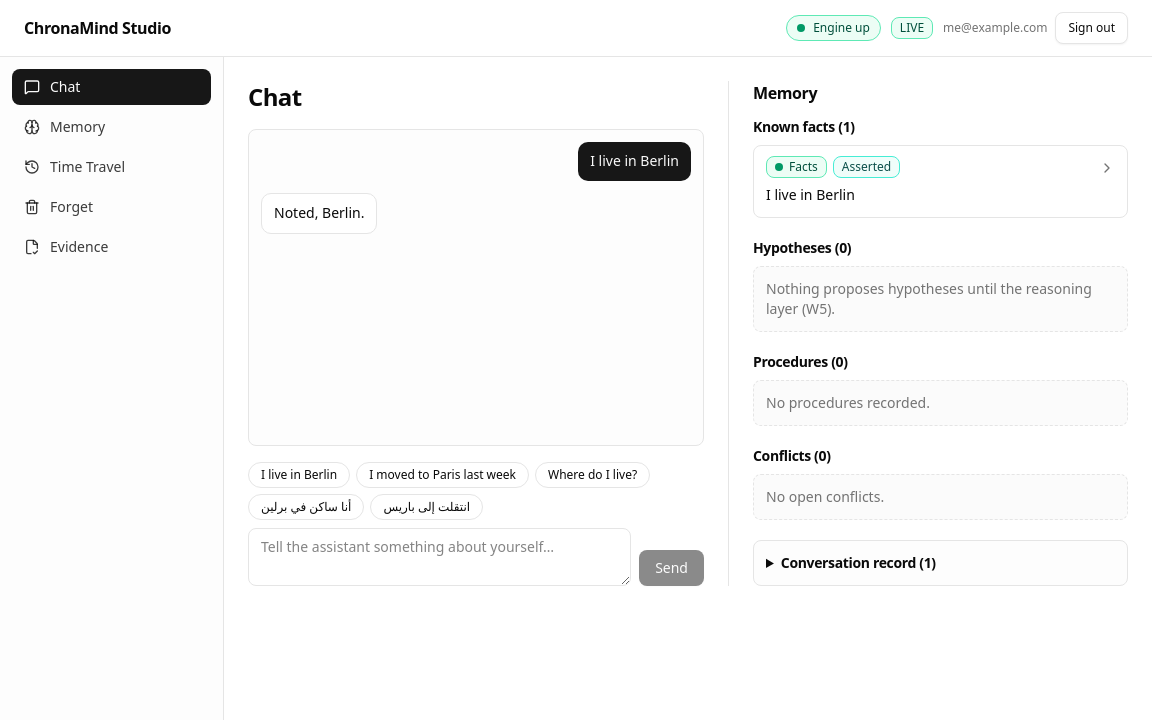
The memory panel › clicking a memory opens its detail page
Click the button with test id "memory-item" at [796, 167], box [753,145,1128,218]
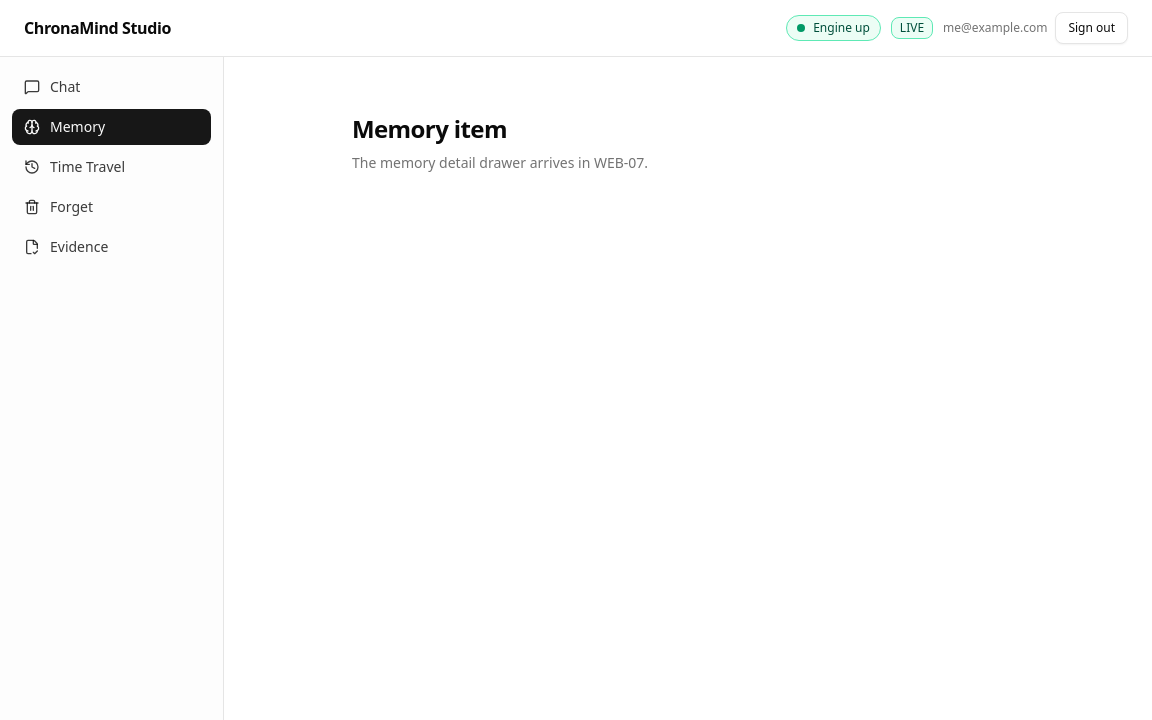
Expected: the heading "Memory item" is shown, [352,112,507,145]
